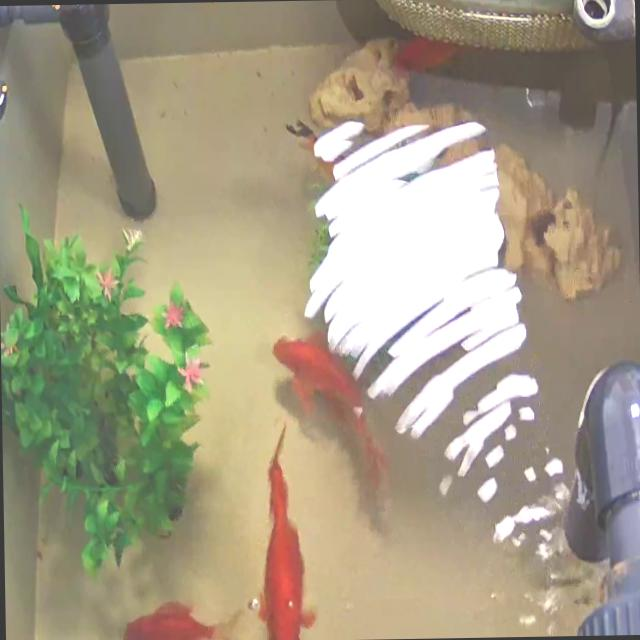fish: (284, 332, 378, 488), (254, 422, 313, 640), (120, 599, 246, 640), (299, 114, 361, 168), (393, 36, 456, 72)
